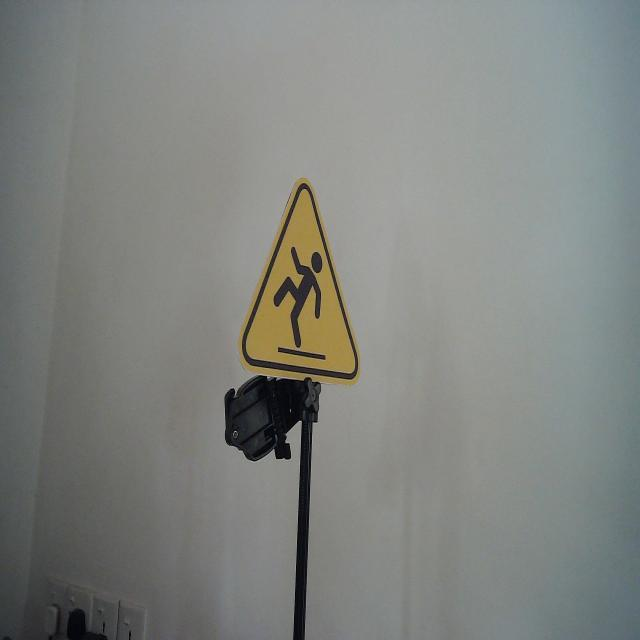slippery_sign: (236, 174, 362, 390)
